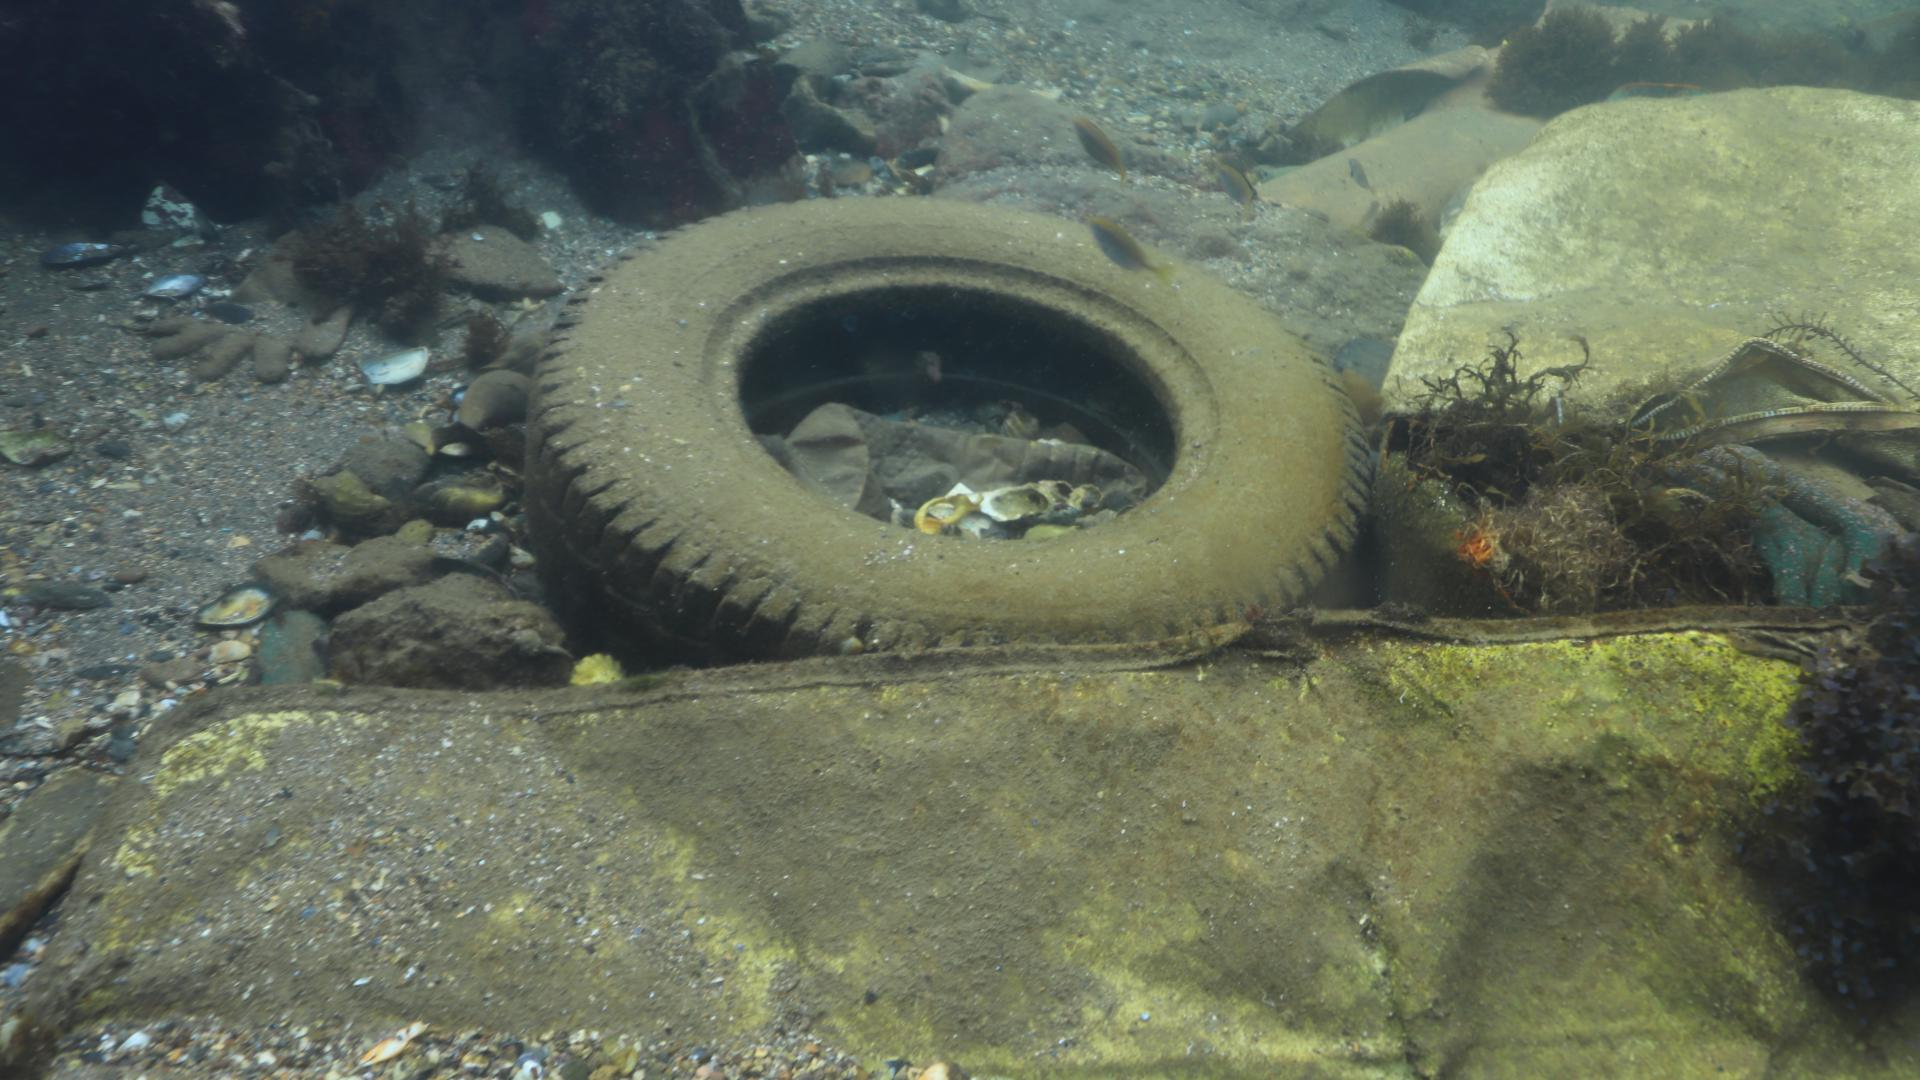tire: (527, 193, 1374, 676)
